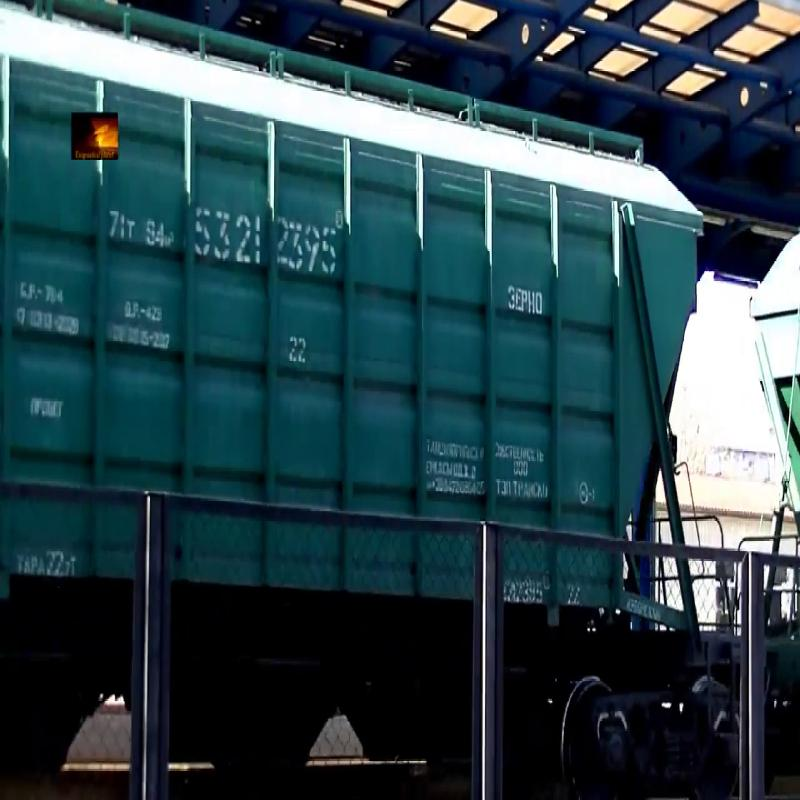train: (1, 6, 711, 725), (746, 62, 800, 725)
